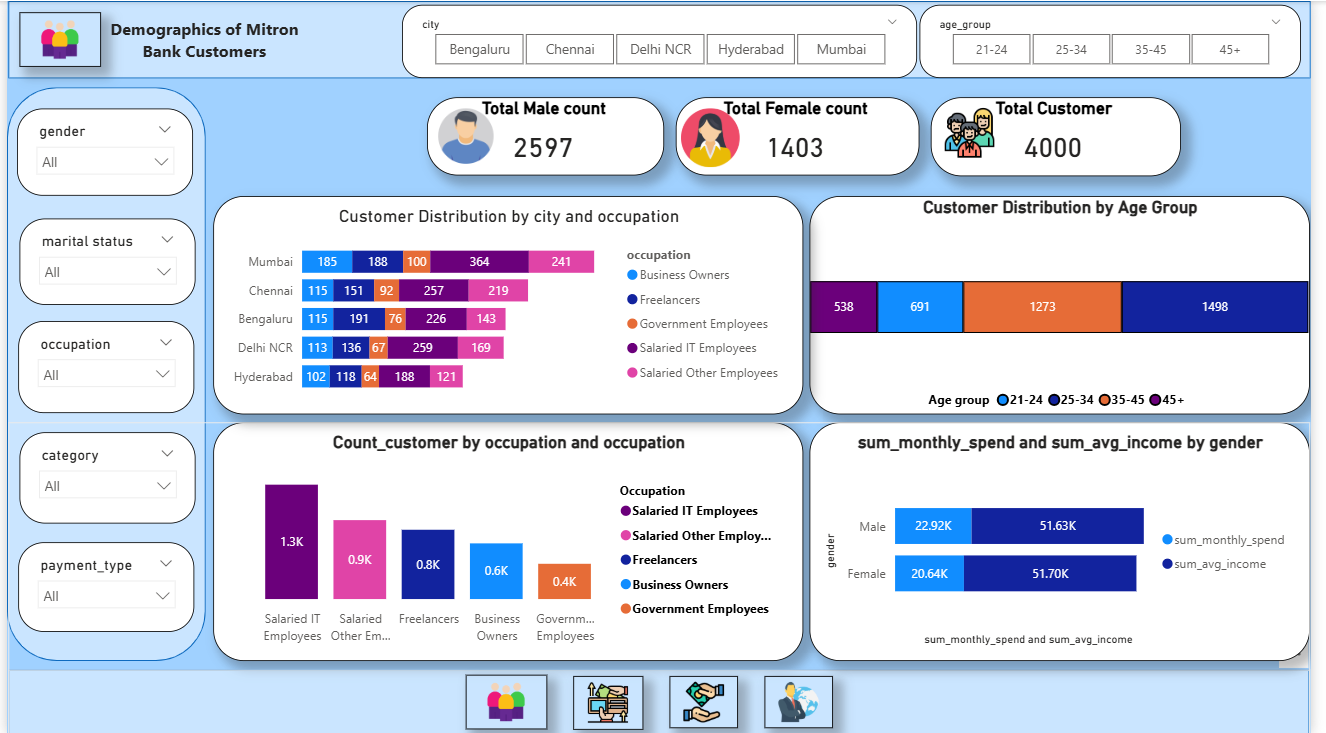

The page's visual inventory and layout, read from the dashboard file:
{"tool":"powerbi","page":{"name":"demographics","canvas":[1280,720],"ordinal":1},"visuals":[{"type":"shape","box":[1.2,0,1278.5,76.1],"z":0,"group":"g6"},{"type":"image","box":[12.3,11,80,54],"z":0,"group":"g7"},{"type":"group","id":"g1","title":"Group 6","box":[0,84.7,195.1,563.2],"z":0},{"type":"card","title":"Total Male count","fields":{"Values":["dim_customers.Total_male_count"]},"box":[412.6,94.5,233,76.8],"z":0,"group":"g2"},{"type":"card","title":"Total Female count","fields":{"Values":["dim_customers.Total_female_count"]},"box":[656.8,94.5,239.1,76.8],"z":0,"group":"g4"},{"type":"card","title":"Total Customer","fields":{"Values":["dim_customers.Count_customer"]},"box":[906.8,94.5,245.4,77.3],"z":0,"group":"g5"},{"type":"shape","box":[1.2,656.4,1277.3,63.8],"z":0,"group":"g8"},{"type":"textbox","box":[92.3,11,203.5,54],"z":1000,"group":"g7"},{"type":"image","box":[909.5,98.9,71.4,60.4],"z":1000,"group":"g5"},{"type":"image","box":[402.5,100.5,95.6,64.5],"z":1000,"group":"g2"},{"type":"image","box":[655.2,101,70,67.2],"z":1000,"group":"g4"},{"type":"barChart","title":"Customer Distribution by Age Group","fields":{"Y":["dim_customers.Count_customer"],"Series":["dim_customers.age_group"]},"box":[787.7,191.4,490.8,214.7],"z":1000},{"type":"columnChart","fields":{"Y":["dim_customers.Count_customer"],"Category":["dim_customers.occupation"],"Series":["dim_customers.occupation"]},"box":[202.5,413.5,579.1,234.4],"z":2000},{"type":"image","title":"page1","box":[450.3,661.8,79.8,54],"z":2000,"group":"g8"},{"type":"group","id":"g2","title":"Group 1","box":[402.5,94.5,242.9,76.1],"z":3000},{"type":"image","title":"page3","box":[650.3,663,67.5,51.5],"z":3000,"group":"g8"},{"type":"group","id":"g3","title":"Group 3","box":[655.2,94.5,240.5,76.1],"z":4000},{"type":"image","title":"page4","box":[743.5,663,67.5,51.5],"z":4000,"group":"g8"},{"type":"group","id":"g4","title":"Group 2","box":[655.2,94.5,240.8,76.8],"z":4002,"group":"g3"},{"type":"group","id":"g5","title":"Group 4","box":[906.8,94.5,245.4,77.3],"z":5000},{"type":"barChart","title":"Customer Distribution by city and occupation","fields":{"Y":["dim_customers.Count_customer"],"Category":["dim_customers.city"],"Series":["dim_customers.occupation"]},"box":[202.5,191.4,579.1,214.7],"z":6000},{"type":"image","title":"page2","box":[555.8,662.4,68.7,52.8],"z":6000,"group":"g8"},{"type":"group","id":"g6","title":"Group 5","box":[1.2,0,1278.5,76.1],"z":7000},{"type":"group","id":"g7","title":"Group 7","box":[12.3,11,283.4,54],"z":8000},{"type":"shape","box":[0,84.7,195.1,563.2],"z":8000,"group":"g9"},{"type":"slicer","fields":{"Values":["dim_customers.gender"]},"box":[9.8,105.6,173,85.9],"z":9000,"group":"g9"},{"type":"slicer","fields":{"Values":["dim_customers.marital status"]},"box":[12.3,213.5,173,84.7],"z":9000},{"type":"slicer","fields":{"Values":["fact_spends.payment_type"]},"box":[11,531.3,173,88.3],"z":10000},{"type":"slicer","fields":{"Values":["fact_spends.category"]},"box":[12.3,423.3,173,89.6],"z":11000},{"type":"slicer","fields":{"Values":["dim_customers.occupation"]},"box":[11,314.1,173,90.8],"z":12000},{"type":"barChart","fields":{"Y":["dim_customers.sum_monthly_spend","dim_customers.sum_avg_income"],"Category":["dim_customers.gender"]},"box":[787.7,413.5,490.8,234.4],"z":12000,"group":"g8"},{"type":"group","id":"g8","title":"Group 9","box":[1.2,413.5,1277.3,306.8],"z":13000},{"type":"group","id":"g9","title":"Group 8","box":[0,84.7,195.1,563.2],"z":13002,"group":"g1"},{"type":"slicer","fields":{"Values":["dim_customers.city"]},"box":[387.7,3.7,505.5,72.4],"z":14000,"group":"g6"},{"type":"slicer","fields":{"Values":["dim_customers.age_group"]},"box":[895.7,3.7,374.2,72.4],"z":15000,"group":"g6"}]}

Visuals, with their boxes in screenshot pixels (x1, y1, x2, y2), scaled from the page's 1280x720 canvas onto the 1326x733 screenshot:
shape: <box>1,0,1325,77</box>
image: <box>13,11,96,66</box>
"Group 6" group: <box>0,86,202,660</box>
"Total Male count" card: <box>427,96,669,174</box>
"Total Female count" card: <box>680,96,928,174</box>
"Total Customer" card: <box>939,96,1194,175</box>
shape: <box>1,668,1324,732</box>
textbox: <box>96,11,306,66</box>
image: <box>942,101,1016,162</box>
image: <box>417,102,516,168</box>
image: <box>679,103,751,171</box>
"Customer Distribution by Age Group" barChart: <box>816,195,1324,413</box>
columnChart - dim_customers.Count_customer x dim_customers.occupation: <box>210,421,810,660</box>
"page1" image: <box>466,674,549,729</box>
"Group 1" group: <box>417,96,669,174</box>
"page3" image: <box>674,675,744,727</box>
"Group 3" group: <box>679,96,928,174</box>
"page4" image: <box>770,675,840,727</box>
"Group 2" group: <box>679,96,928,174</box>
"Group 4" group: <box>939,96,1194,175</box>
"Customer Distribution by city and occupation" barChart: <box>210,195,810,413</box>
"page2" image: <box>576,674,647,728</box>
"Group 5" group: <box>1,0,1325,77</box>
"Group 7" group: <box>13,11,306,66</box>
shape: <box>0,86,202,660</box>
slicer - dim_customers.gender: <box>10,108,189,195</box>
slicer - dim_customers.marital status: <box>13,217,192,304</box>
slicer - fact_spends.payment_type: <box>11,541,191,631</box>
slicer - fact_spends.category: <box>13,431,192,522</box>
slicer - dim_customers.occupation: <box>11,320,191,412</box>
barChart - dim_customers.sum_monthly_spend x dim_customers.sum_avg_income: <box>816,421,1324,660</box>
"Group 9" group: <box>1,421,1324,732</box>
"Group 8" group: <box>0,86,202,660</box>
slicer - dim_customers.city: <box>402,4,925,77</box>
slicer - dim_customers.age_group: <box>928,4,1316,77</box>
